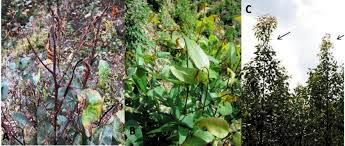Helopeltis-Withered Sprout: (41, 37, 59, 63), (99, 103, 119, 126), (83, 60, 93, 88), (2, 122, 14, 141), (93, 12, 106, 27), (193, 68, 203, 82), (152, 53, 159, 67), (174, 38, 182, 49), (197, 1, 205, 12)
Phalopeltis: (253, 15, 279, 42), (321, 32, 333, 53)
